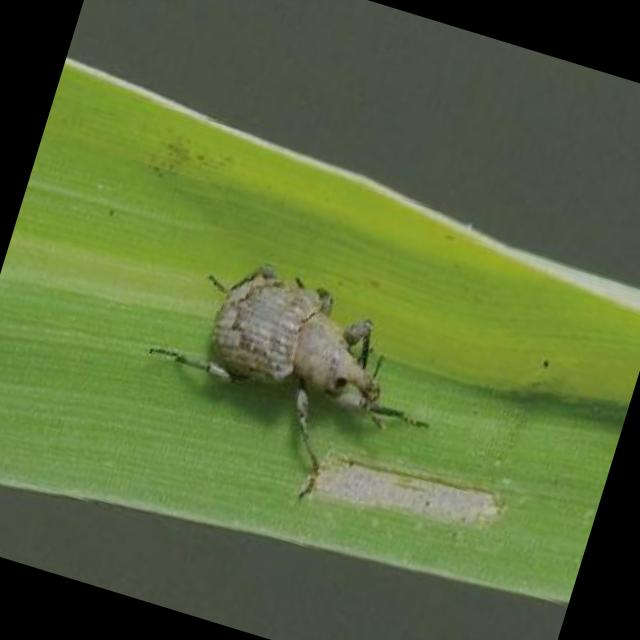rice-bug: (164, 241, 425, 478)
